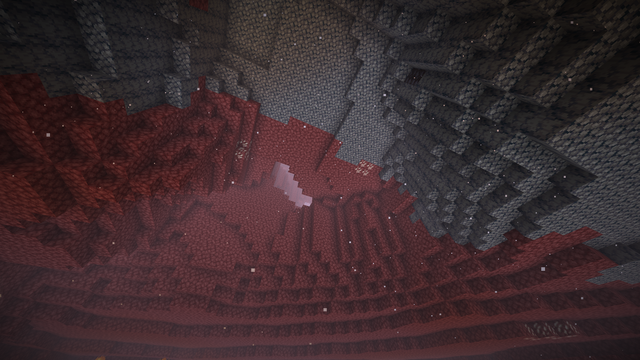quartz: (523, 322, 578, 340), (235, 139, 251, 161), (355, 160, 373, 177)
